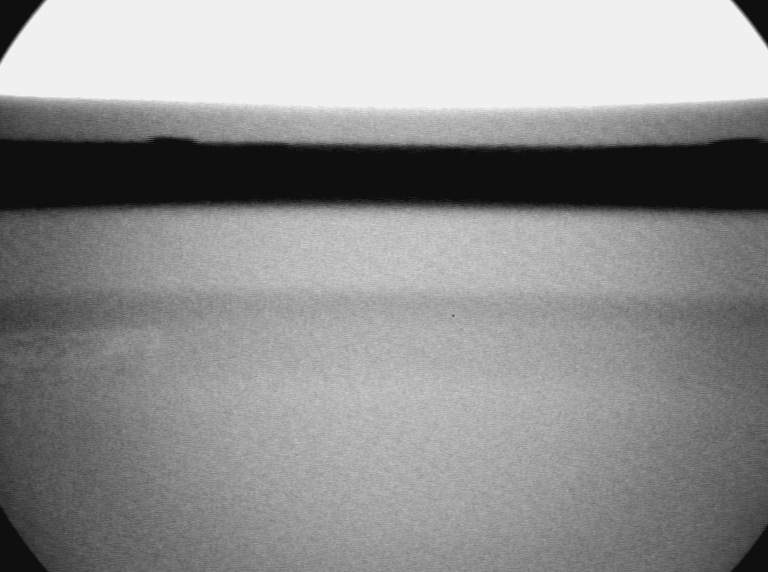defect: (4, 324, 170, 403)
